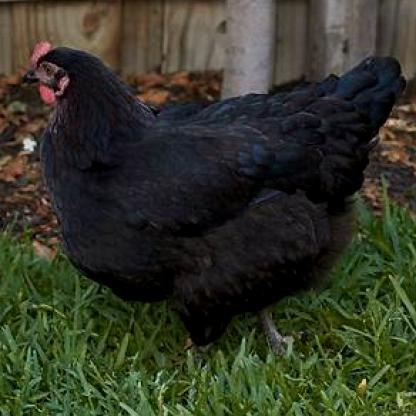chicken: (21, 40, 404, 355)
